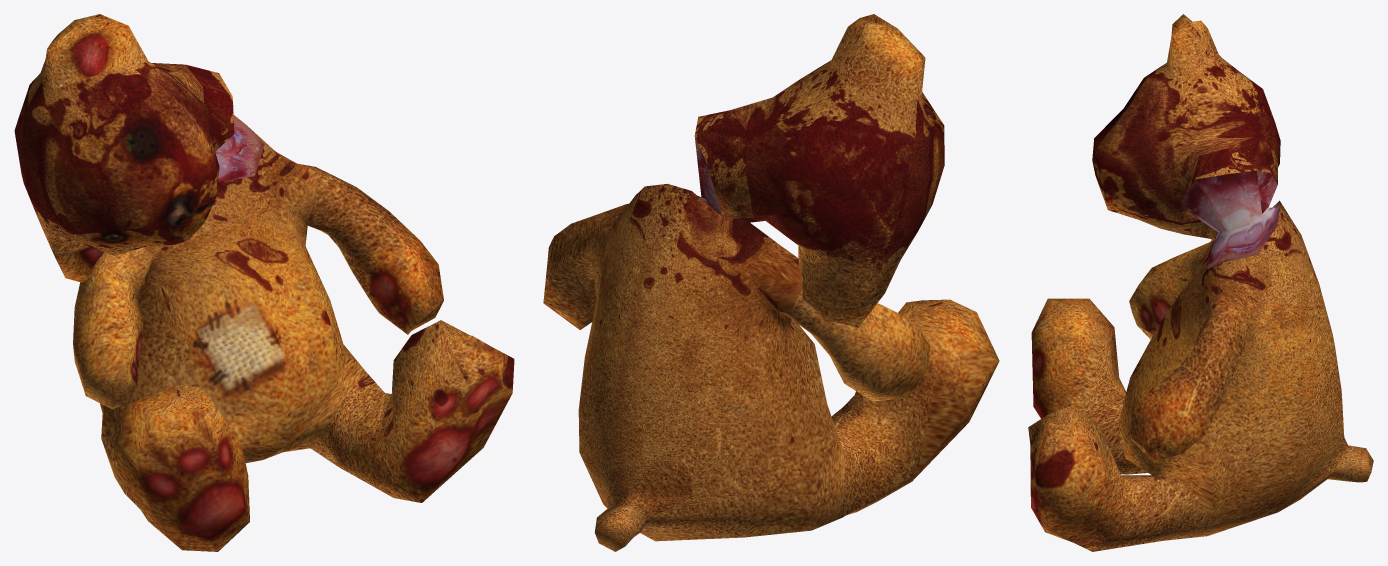
Rendered from Prop_TeddybearDestroyed_model.fbx.
3 views of the same model, side by side, from view 1: azimuth 30°, elevation 25°; view 2: azimuth 150°, elevation 25°; view 3: azimuth 270°, elevation 25° (orthographic). The views are drawn at different scales.
Visible parts, largest first — view 1: Prop_TeddybearDestroyed; view 2: Prop_TeddybearDestroyed; view 3: Prop_TeddybearDestroyed.
Part boxes in pixels (x1=…): Prop_TeddybearDestroyed: x1=14, y1=14, x2=514, y2=551; Prop_TeddybearDestroyed: x1=543, y1=14, x2=999, y2=551; Prop_TeddybearDestroyed: x1=1028, y1=14, x2=1373, y2=551.
Bounding box in the file's own units: 15.59 × 18.49 × 13.57.
